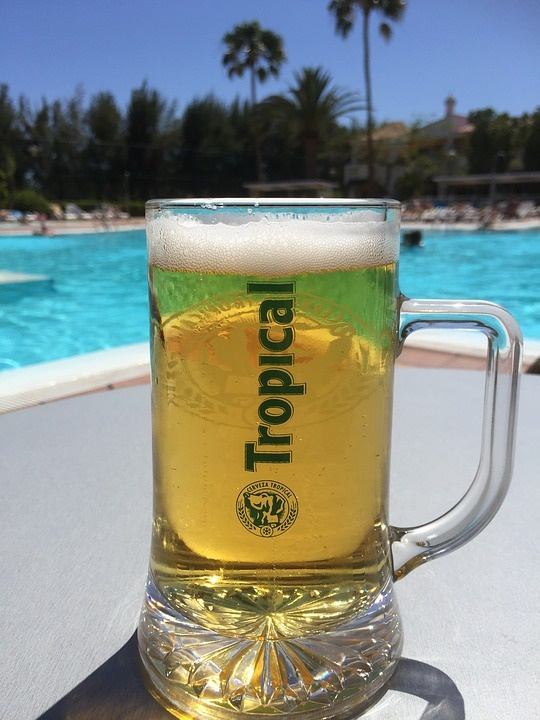glassBeer: (145, 193, 410, 709)
